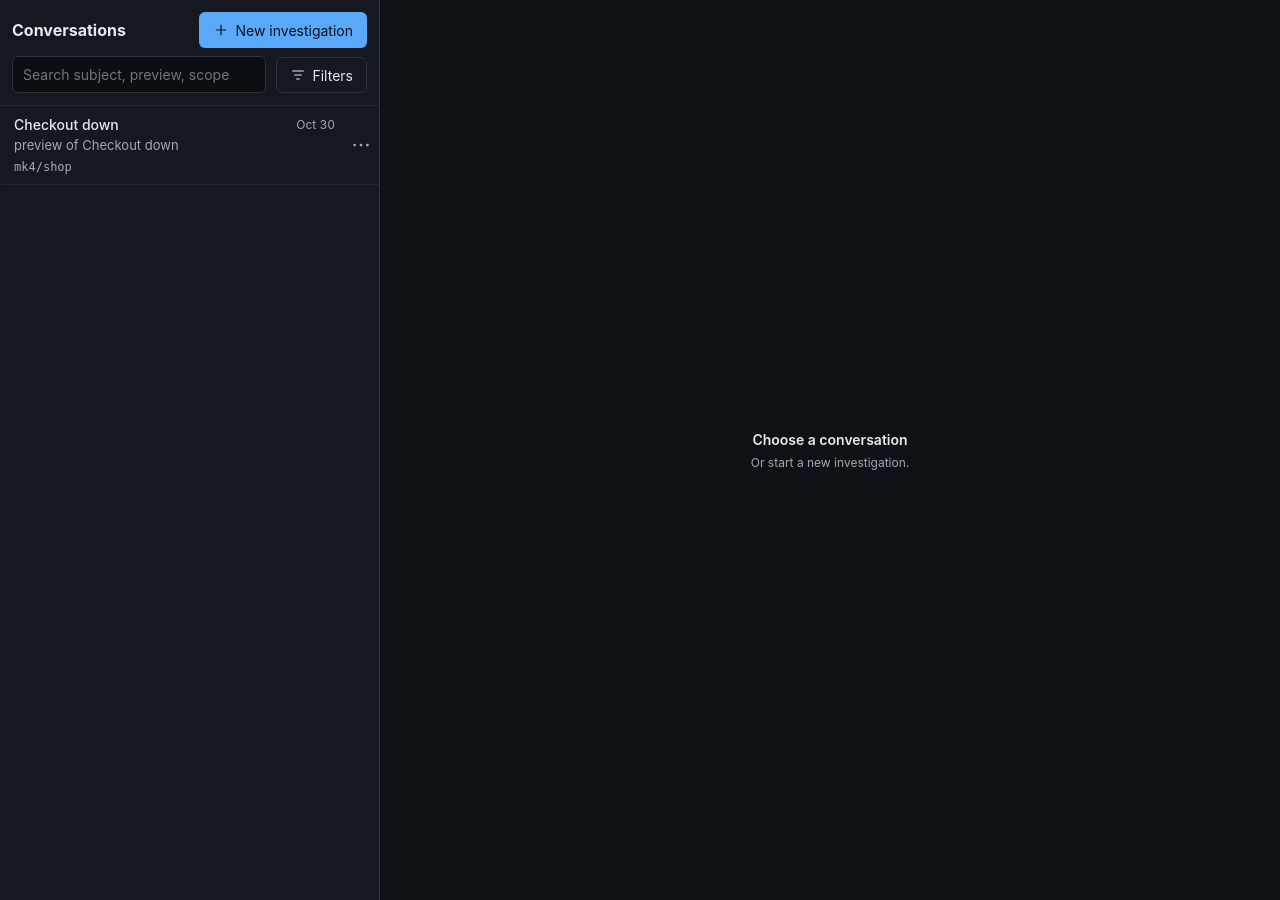
it: inbox › offers row actions in a named menu
The image size is (1280, 900).
Expected: the text "Checkout down" is shown, [14,116,119,133]
Click the button named "Actions for Checkout down" at coordinates (361, 145), box [347,127,375,163]
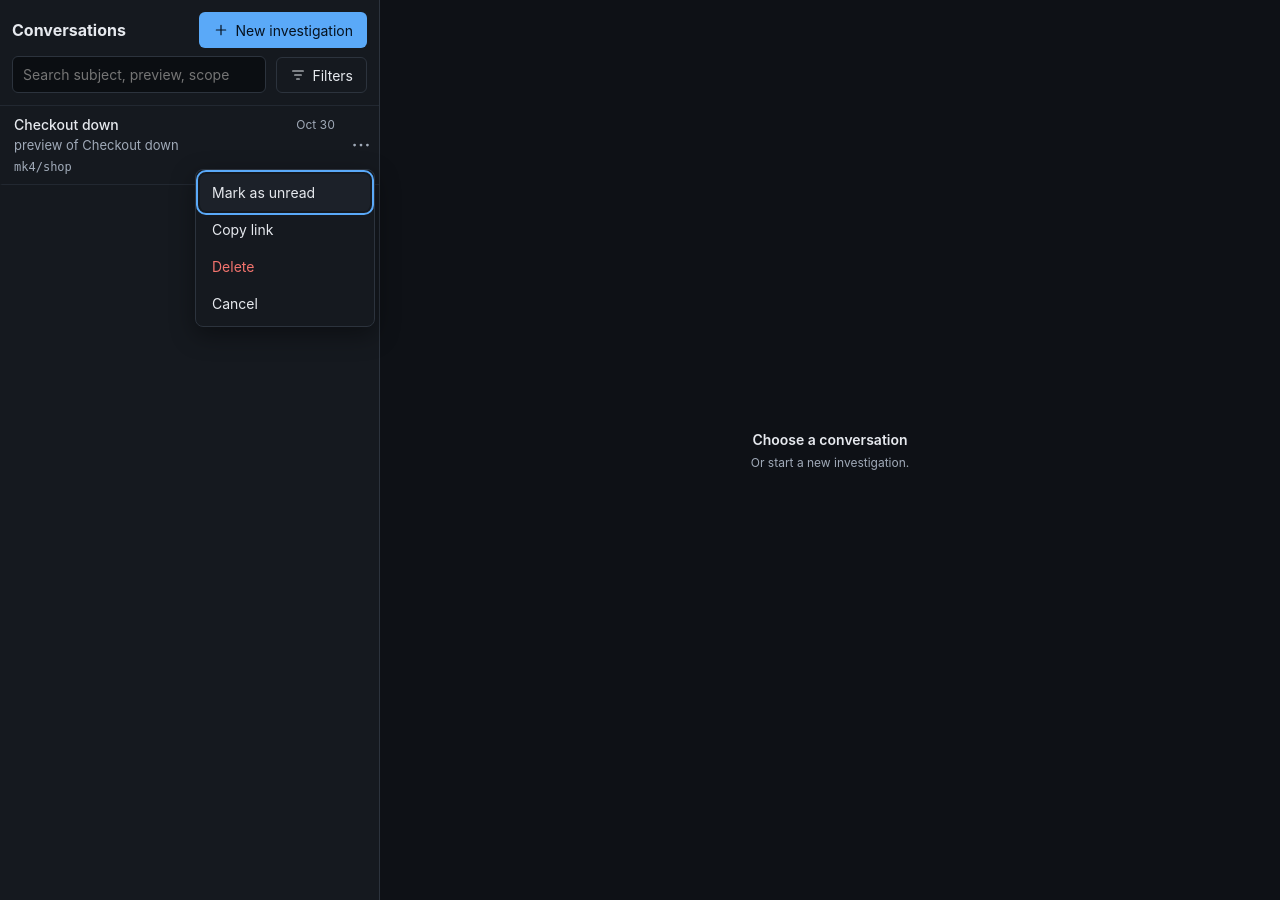
Expected: the menu item "Mark as unread" is shown, [200,174,370,211]
Expected: the menu item "Delete" is shown, [200,248,370,285]
